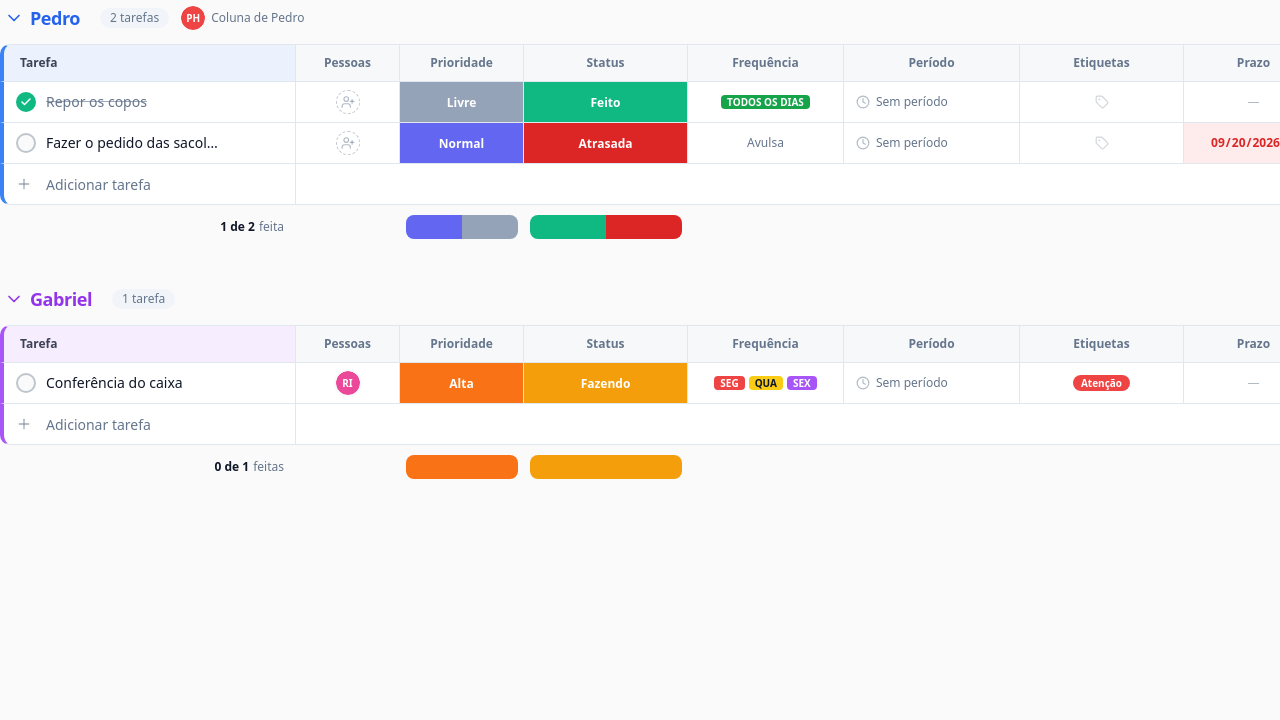
Test: Tabela do quadro › o seletor de status explica que o "Feito" da recorrente vale só para hoje
The width and height of the screenshot is (1280, 720).
Click the button "Feito".
click(606, 102)  # box [524,82,687,122]
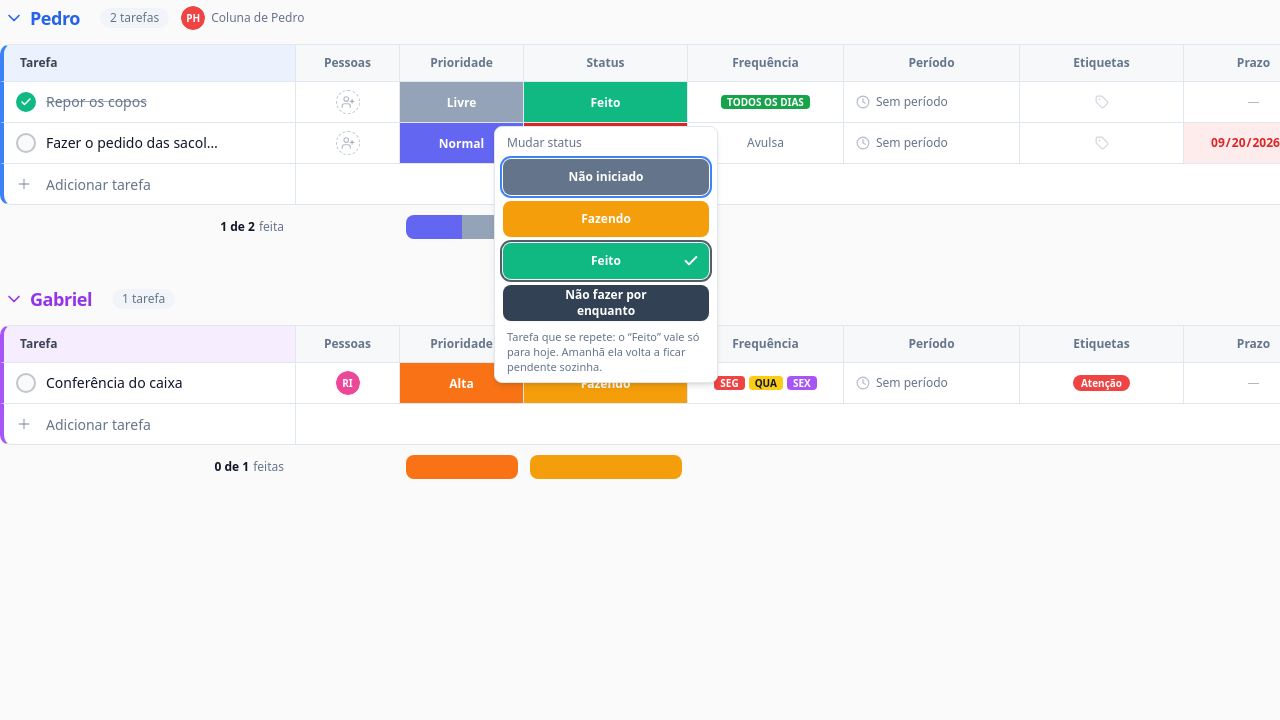
Now the text "vale só para hoje" is shown, box [507,329,699,374]
